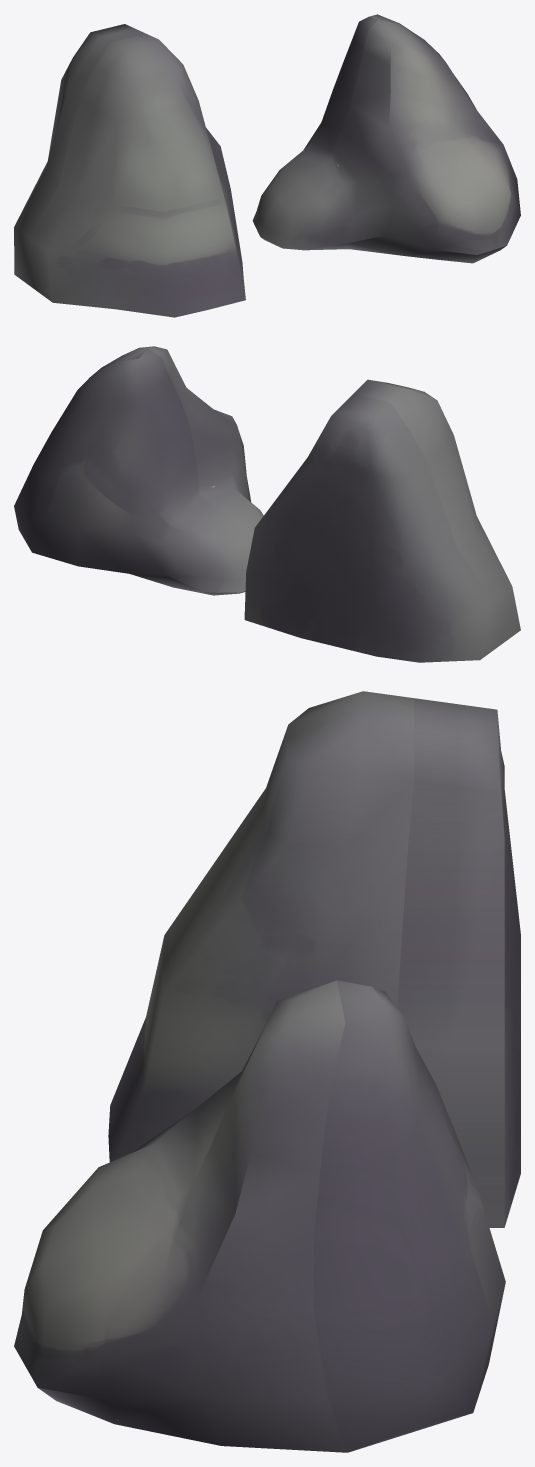
File: Rocks (3).fbx
The picture shows the model from 3 angles, top to bottom: view 1: azimuth 30°, elevation 25°; view 2: azimuth 150°, elevation 25°; view 3: azimuth 270°, elevation 25°; orthographic projection. The views are drawn at different scales.
Parts seen in each view (by area): view 1: Rock_2, Rock_1; view 2: Rock_2, Rock_1; view 3: Rock_1, Rock_2.
Part boxes in pixels (left/top/right/bottom): Rock_2: left=14, top=24, right=245, bottom=317; Rock_1: left=252, top=14, right=520, bottom=263; Rock_2: left=244, top=379, right=520, bottom=662; Rock_1: left=14, top=346, right=263, bottom=595; Rock_1: left=14, top=980, right=505, bottom=1452; Rock_2: left=108, top=691, right=520, bottom=1227.
Size of the model in its own units: 265 by 125 by 131.
2 materials, 2 textured.
